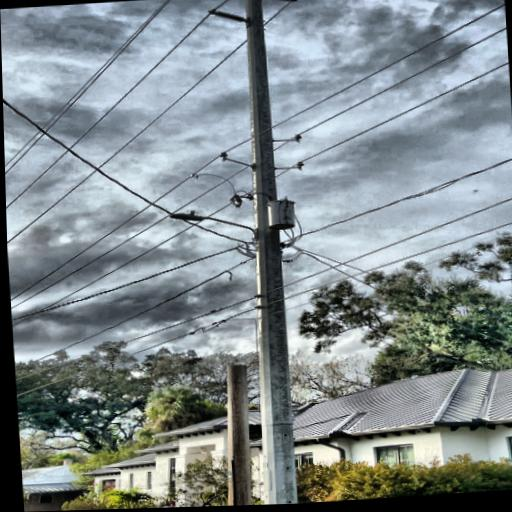pole: (223, 0, 305, 505)
street light: (164, 205, 263, 249)
transformer: (265, 197, 299, 232)
